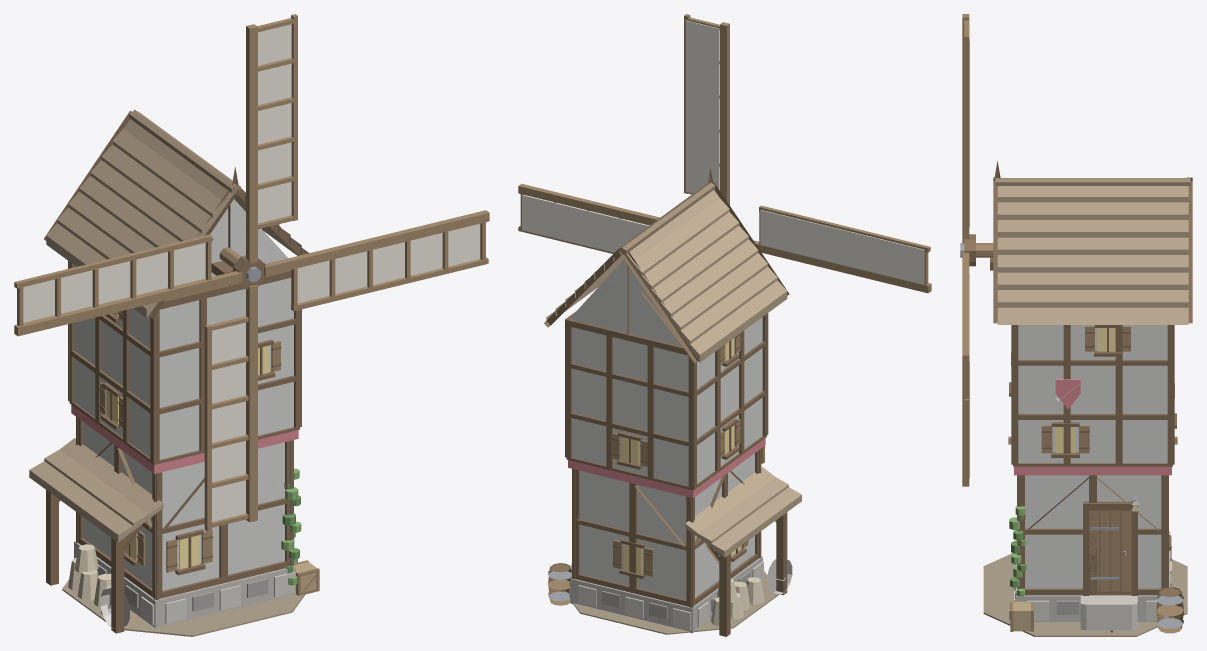
Rendered from mill_3.glb.
The picture shows the model from 3 angles, left to right: view 1: azimuth 30°, elevation 25°; view 2: azimuth 150°, elevation 25°; view 3: azimuth 270°, elevation 25°; orthographic projection. The views are drawn at different scales.
Visible parts, largest first — view 1: Upper, Walls, Sails.Canvas, Sails.Canvas#3, Sails.Canvas#2, Sails.Canvas#4, Ground, Sails.Spar, Sails.Spar#2, Sails.Spar#3, Sails.Spar#4, Base (+29 smaller); view 2: Upper, Walls, Sails.Canvas#3, Sails.Canvas#2, Gable, Sails.Canvas, Roof#9, Base, Shed.Roof, Roof#10, Roof#12, Roof#14 (+32 smaller); view 3: Upper, Walls, Roof, Ground, Roof#2, Roof#4, Roof#3, Roof#5, Roof#7, Roof#6, Door, Roof#8 (+34 smaller).
Part boxes in pixels (x1,y1,x2,y2): Upper: (74, 265, 293, 459); Walls: (83, 422, 284, 590); Sails.Canvas: (297, 224, 480, 303); Sails.Canvas#3: (23, 242, 205, 322); Sails.Canvas#2: (258, 24, 291, 223); Sails.Canvas#4: (212, 322, 245, 521); Ground: (62, 580, 305, 636); Sails.Spar: (264, 210, 489, 275); Sails.Spar#2: (246, 24, 257, 263); Sails.Spar#3: (14, 271, 242, 336); Sails.Spar#4: (246, 284, 257, 522); Base: (74, 541, 295, 627); Upper: (572, 317, 762, 485); Walls: (579, 453, 754, 599); Sails.Canvas#3: (760, 210, 924, 284); Sails.Canvas#2: (685, 20, 719, 193); Gable: (569, 259, 682, 346); Sails.Canvas: (522, 195, 649, 252); Roof#9: (690, 280, 787, 362); Base: (570, 556, 762, 633); Shed.Roof: (711, 487, 801, 557); Roof#10: (680, 267, 777, 348); Roof#12: (661, 239, 758, 320); Roof#14: (642, 212, 739, 293); Upper: (1018, 325, 1167, 463); Walls: (1025, 475, 1161, 588); Roof: (997, 302, 1188, 324); Ground: (983, 553, 1187, 636); Roof#2: (997, 284, 1188, 302); Roof#4: (997, 249, 1188, 267); Roof#3: (997, 267, 1188, 284); Roof#5: (997, 232, 1188, 249); Roof#7: (997, 197, 1188, 214); Roof#6: (997, 214, 1188, 231); Door: (1089, 510, 1131, 595); Roof#8: (997, 186, 1188, 196).
Size of the model in its own units: 10.4 by 12.75 by 4.68.
